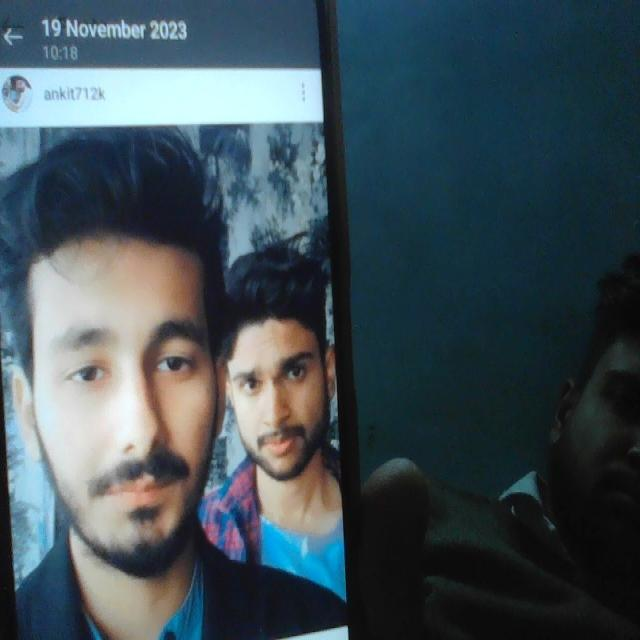fake: (0, 113, 258, 600), (219, 258, 346, 498)
